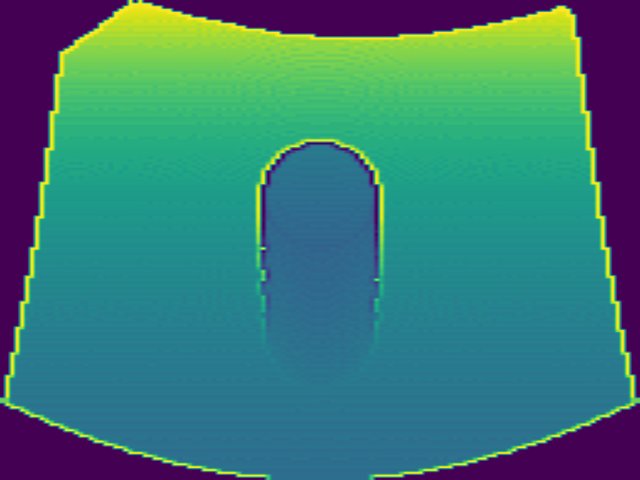cylinder: (254, 139, 387, 385)
